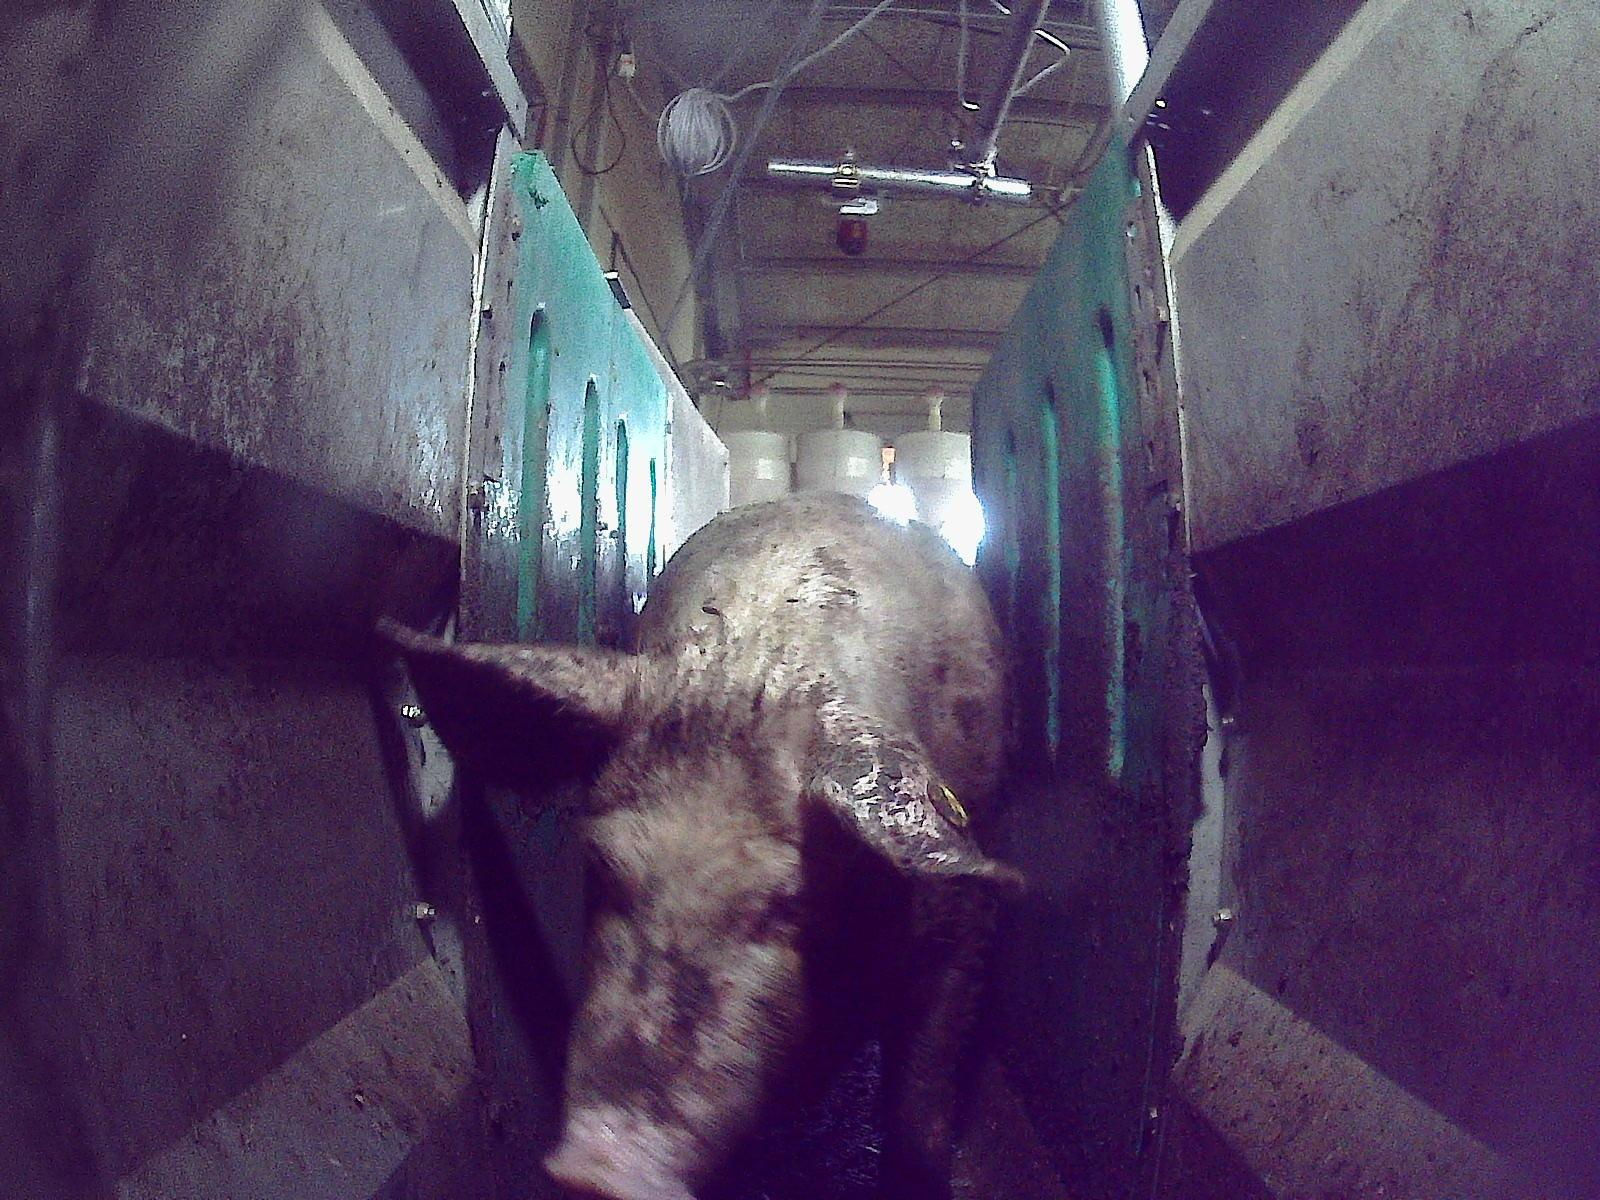Face: (546, 646, 859, 1199)
